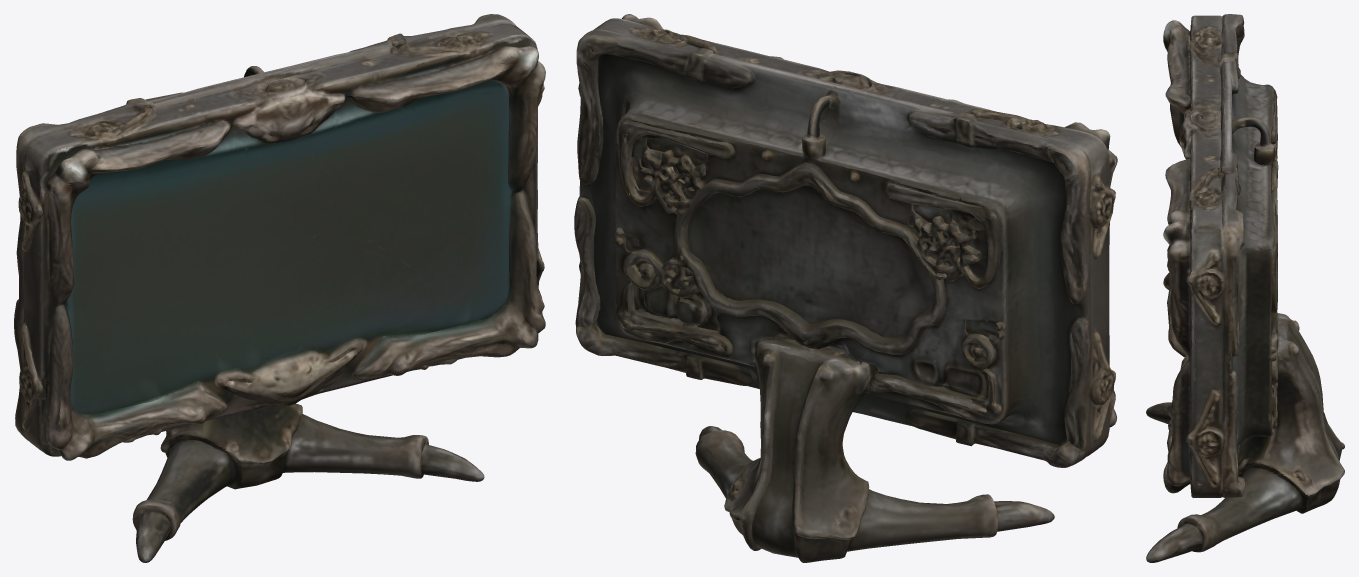
The model's file is monitor-optimized.glb.
3 renders of one model, left to right at view 1: azimuth 30°, elevation 25°; view 2: azimuth 150°, elevation 25°; view 3: azimuth 270°, elevation 25°, orthographic. The views are drawn at different scales.
Parts seen in each view (by area): view 1: geometry_0; view 2: geometry_0; view 3: geometry_0.
Boxes of the visible parts, x1,y1,x2,y2 form: geometry_0: (14, 14, 545, 562); geometry_0: (574, 14, 1117, 562); geometry_0: (1146, 14, 1344, 562).
Size of the model in its own units: 0.62 by 0.4941 by 0.2331.
Materials: 1 (1 with a texture image).
